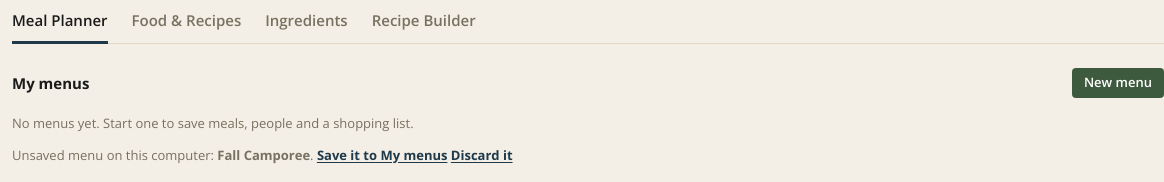
Test: MenuMonsterShelfTool hub, handoff › Scout_ClearsTheLocalMenu_OnlyAfterConfirmingDiscard
Click the button "Discard it" at (482, 155), box [451,146,512,165]
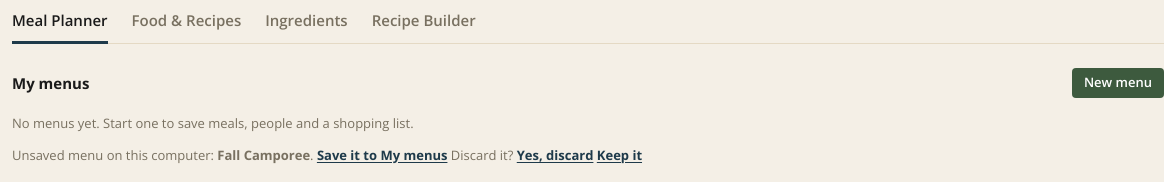
Click the button "Yes, discard" at (555, 155), box [517,146,594,165]
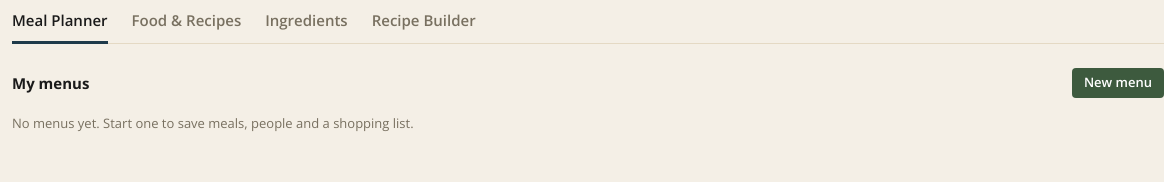
expect the text "Unsaved menu on this computer" is gone: met
